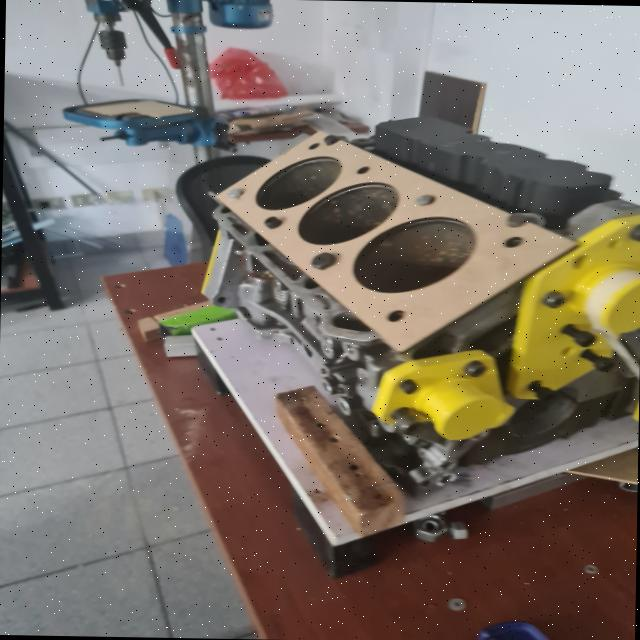tor_v1: (214, 132, 578, 353)
